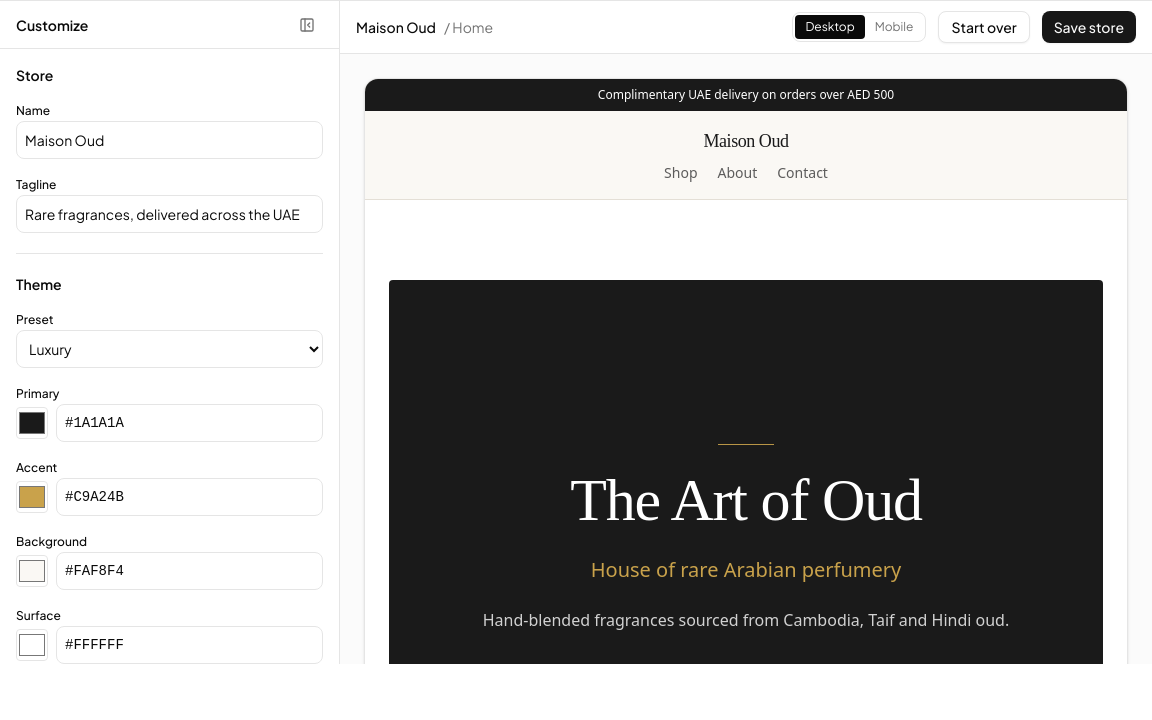
Scenario: StoreEditor (editor ↔ live preview) › warns when text/background contrast drops below AA
The width and height of the screenshot is (1152, 720).
Replace the text in the field labelled "Background" with "#111111" at coordinates (190, 571), box [56,552,323,590]
(page scrolled)
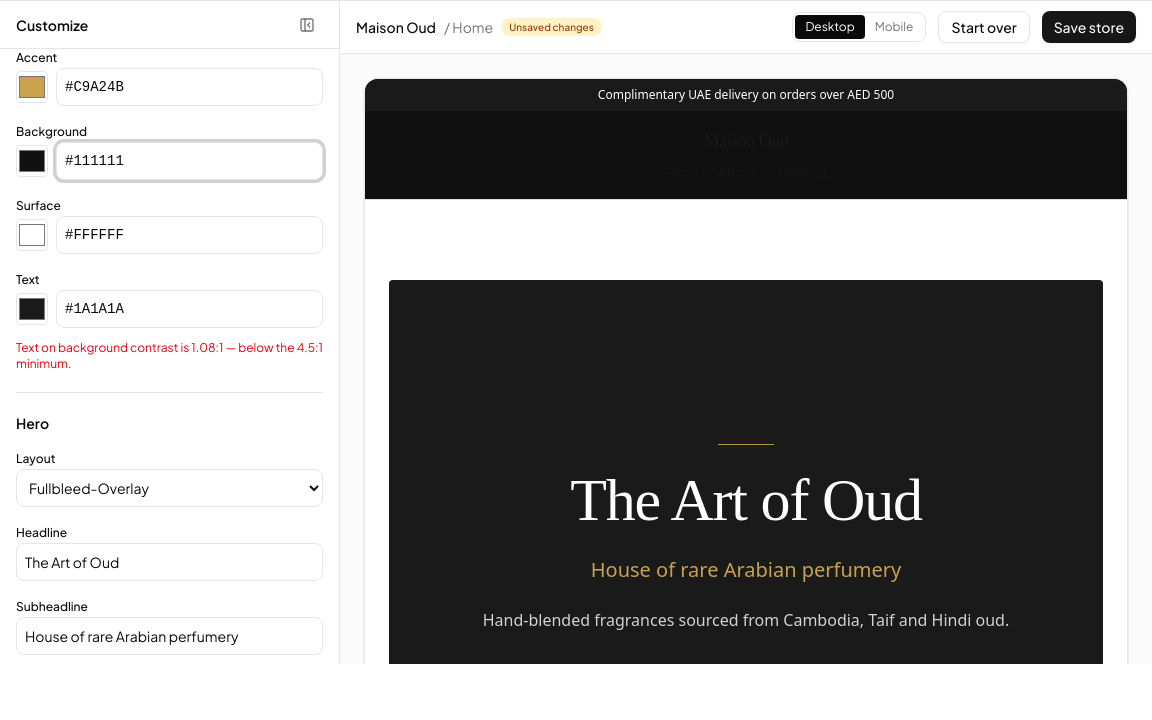
Expected: the text "Text on background contrast is 1.08:1 — below the 4.5:1 minimum." is shown, [16,340,323,372]
